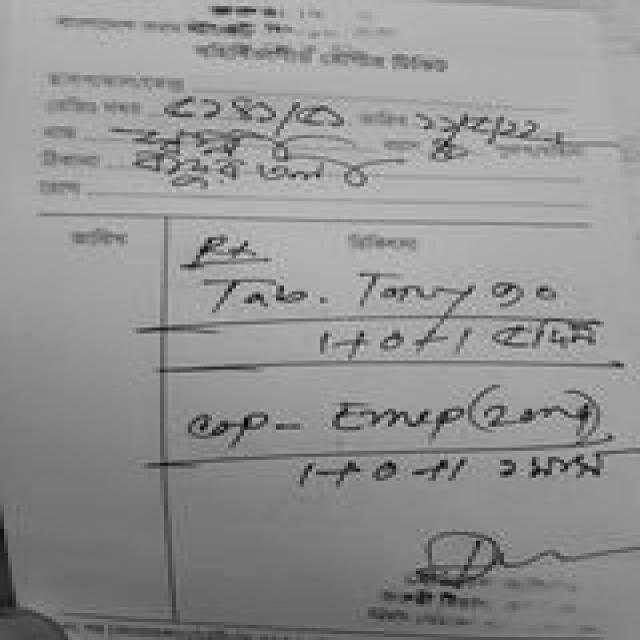Emep: (315, 387, 468, 445)
Tory: (350, 263, 485, 320)
